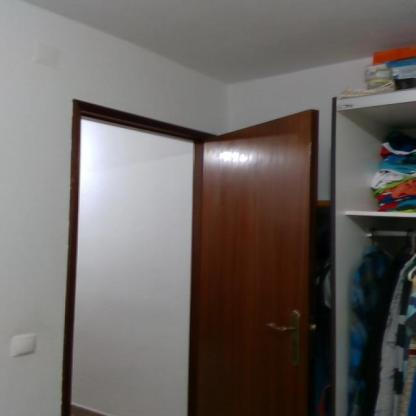door: (64, 92, 321, 415)
